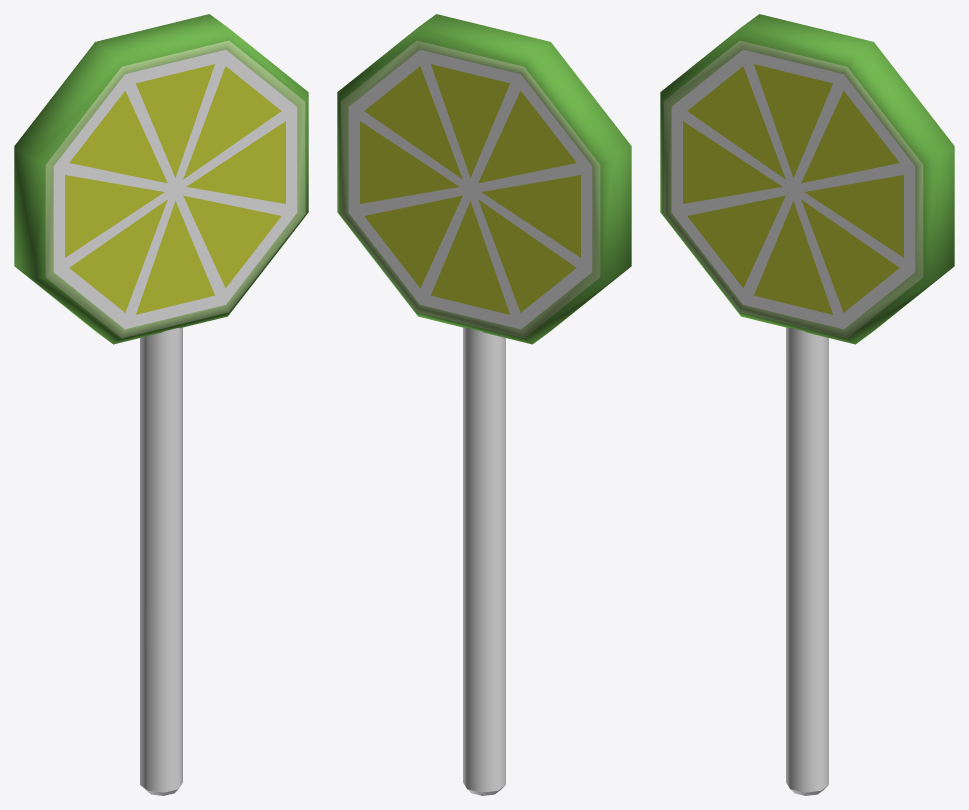
The model's file is Candy_12.fbx.
The picture shows the model from 3 angles, left to right: view 1: azimuth 30°, elevation 25°; view 2: azimuth 150°, elevation 25°; view 3: azimuth 330°, elevation 25°; orthographic projection.
Visible parts, largest first — view 1: Candy_12; view 2: Candy_12; view 3: Candy_12.
Boxes of the visible parts, bbox=[...] form: Candy_12: bbox=[14, 14, 308, 795]; Candy_12: bbox=[337, 14, 631, 795]; Candy_12: bbox=[660, 14, 954, 795].
Bounding box in the file's own units: 1.1 × 2.87 × 0.193.
